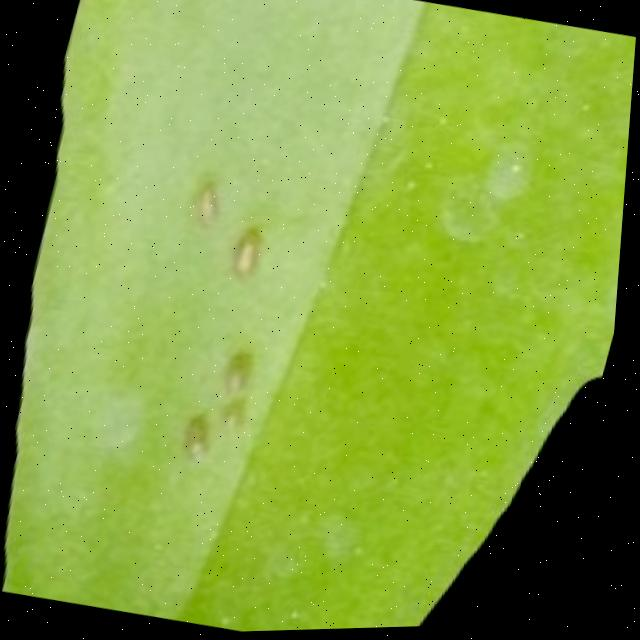mite: (129, 169, 323, 478), (392, 92, 578, 284), (177, 216, 306, 472), (434, 130, 552, 258), (469, 132, 555, 220), (216, 213, 293, 298), (480, 148, 543, 209), (225, 394, 265, 436)
